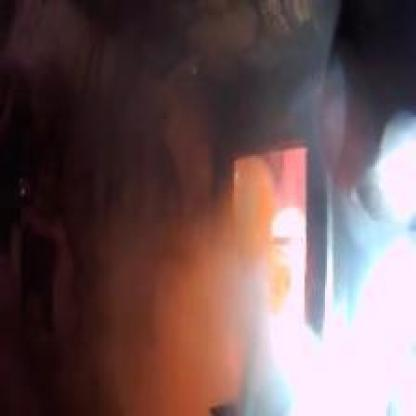other: (261, 200, 400, 408)
